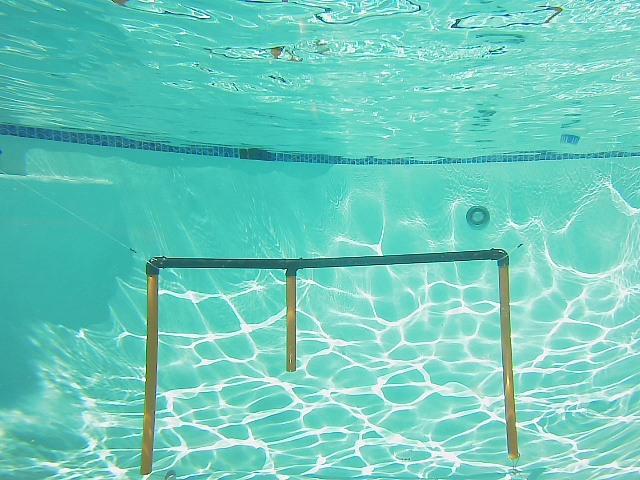Gate: (134, 270, 161, 480), (498, 262, 522, 460), (284, 271, 300, 375)
